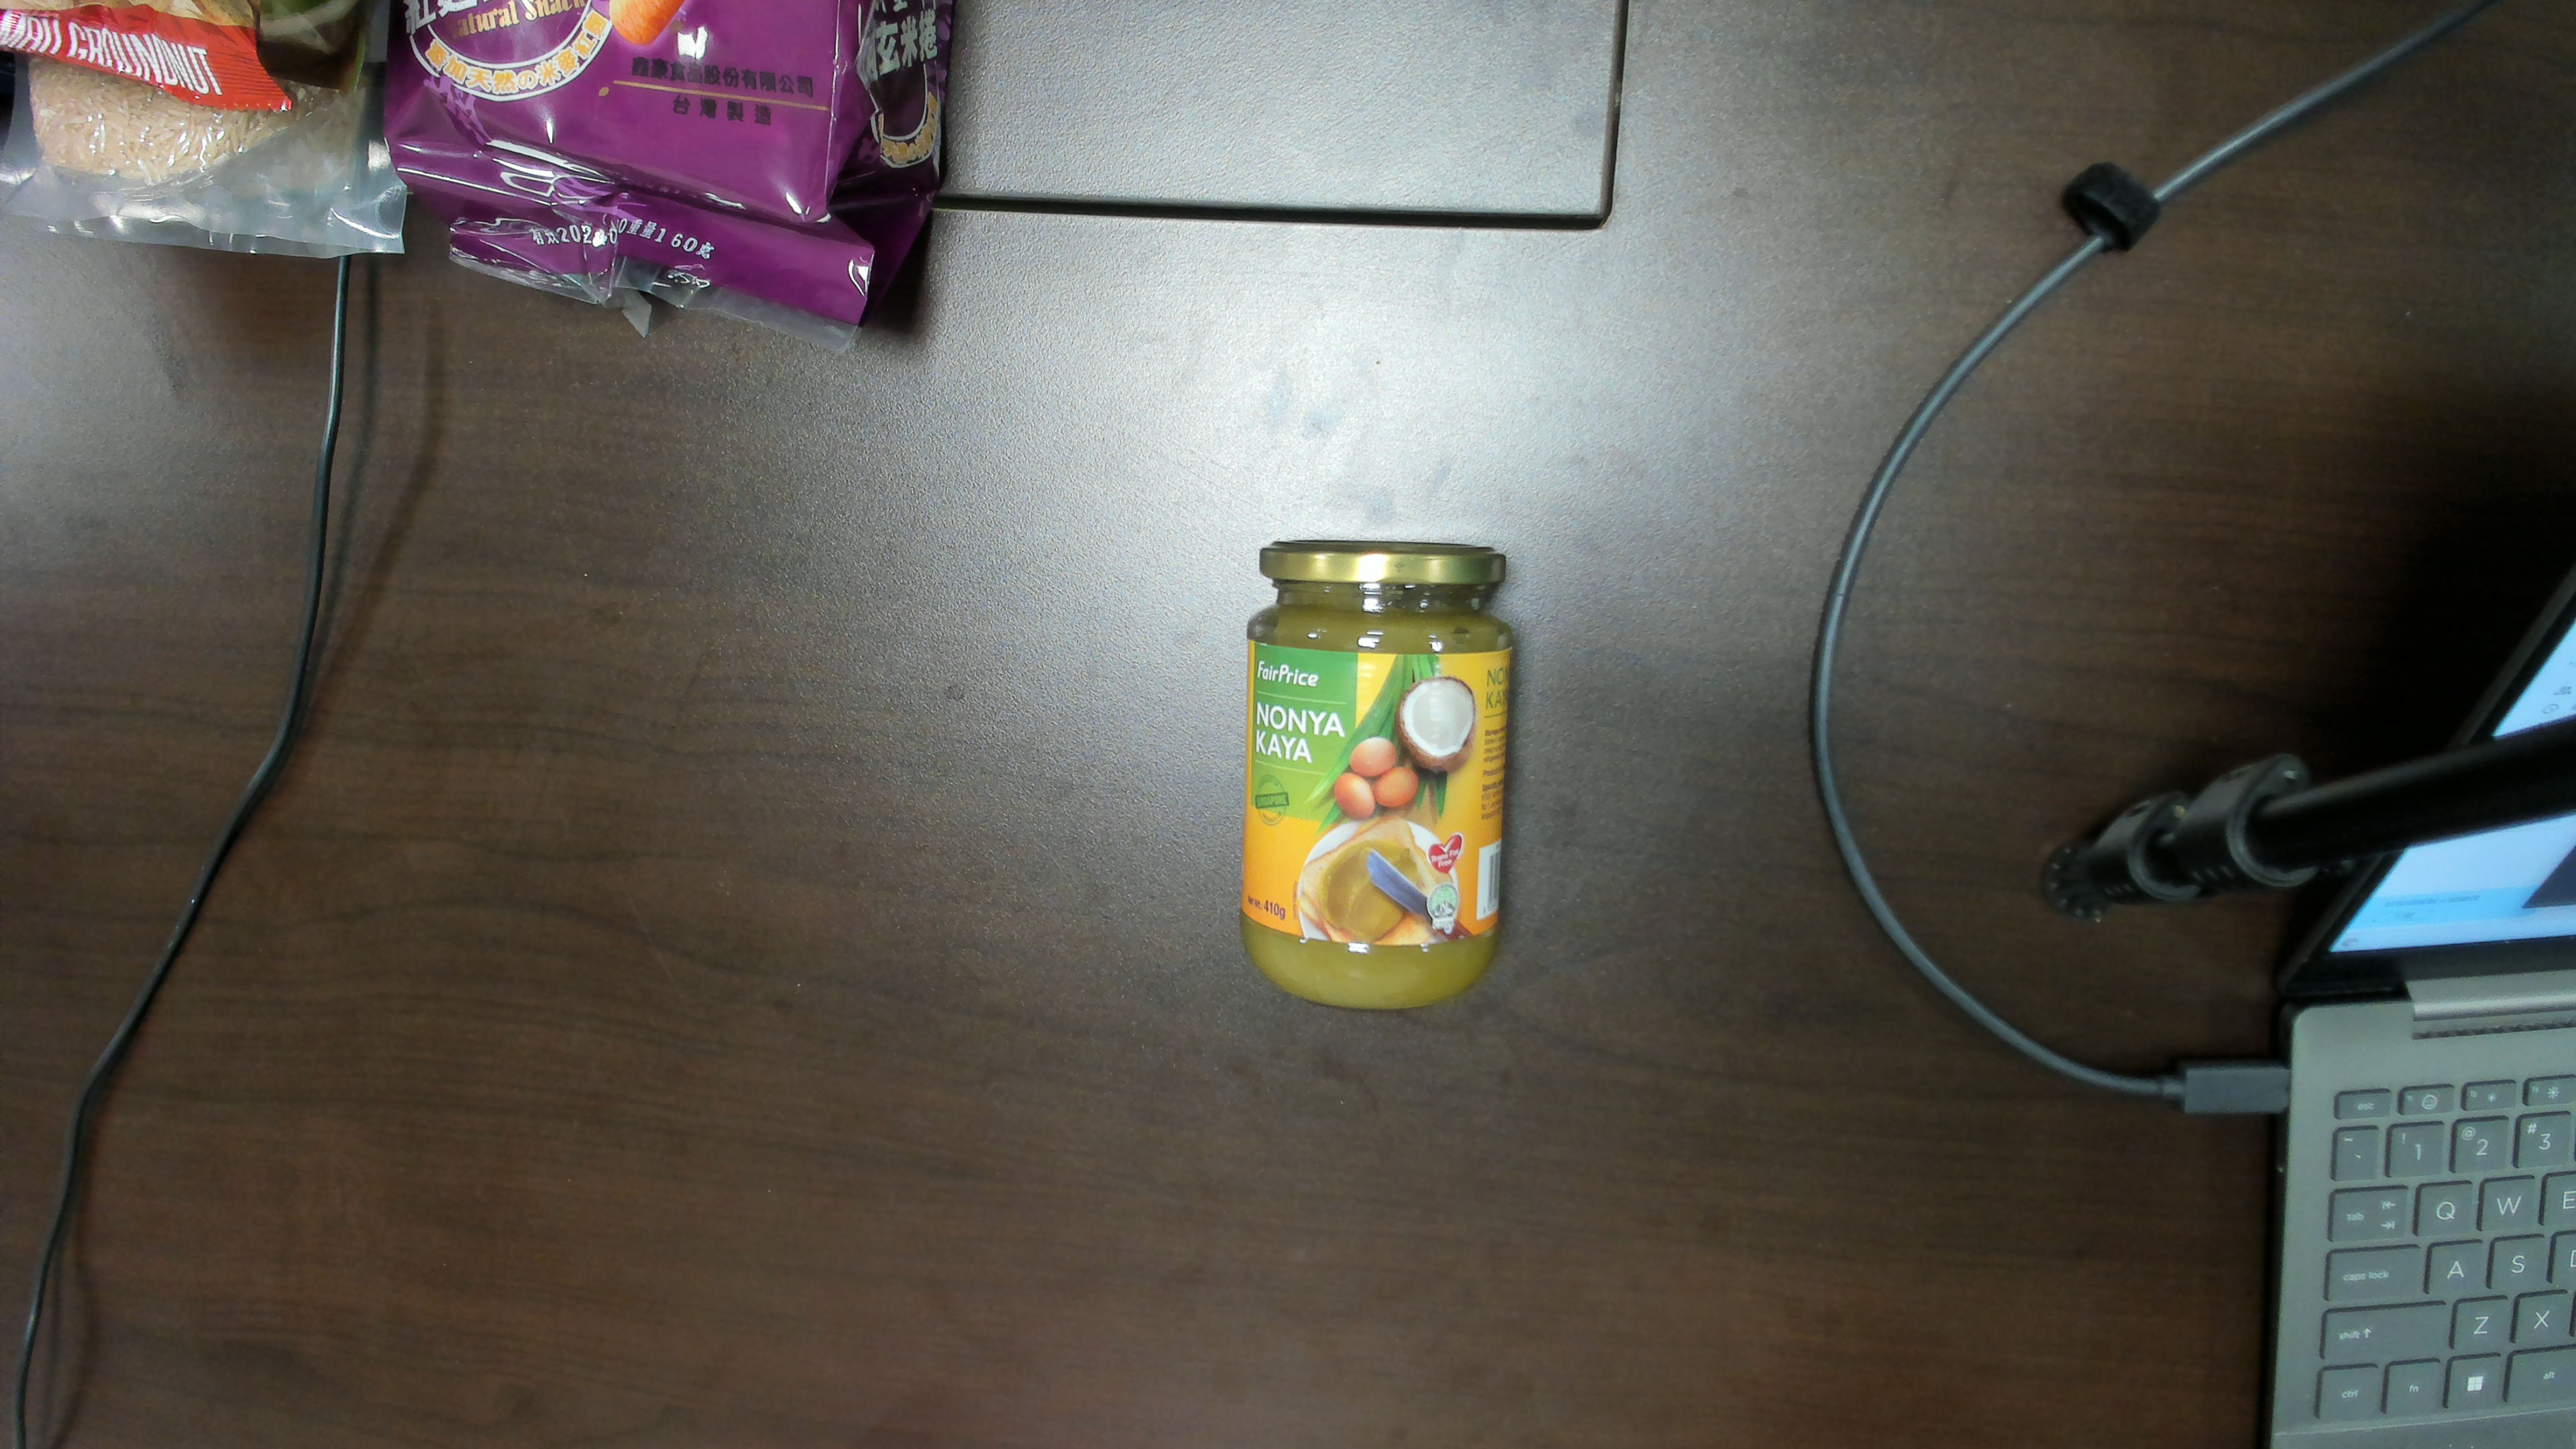Kaya_400-499g_Halal_NonHealthy: (1261, 617, 1490, 971)
